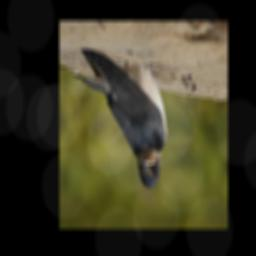Swallow: (69, 49, 168, 189)
